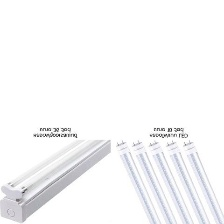light_bulb: (13, 129, 112, 195), (7, 124, 97, 187), (112, 137, 170, 224), (130, 135, 183, 224), (146, 138, 201, 223), (164, 139, 211, 223), (181, 139, 224, 223)
